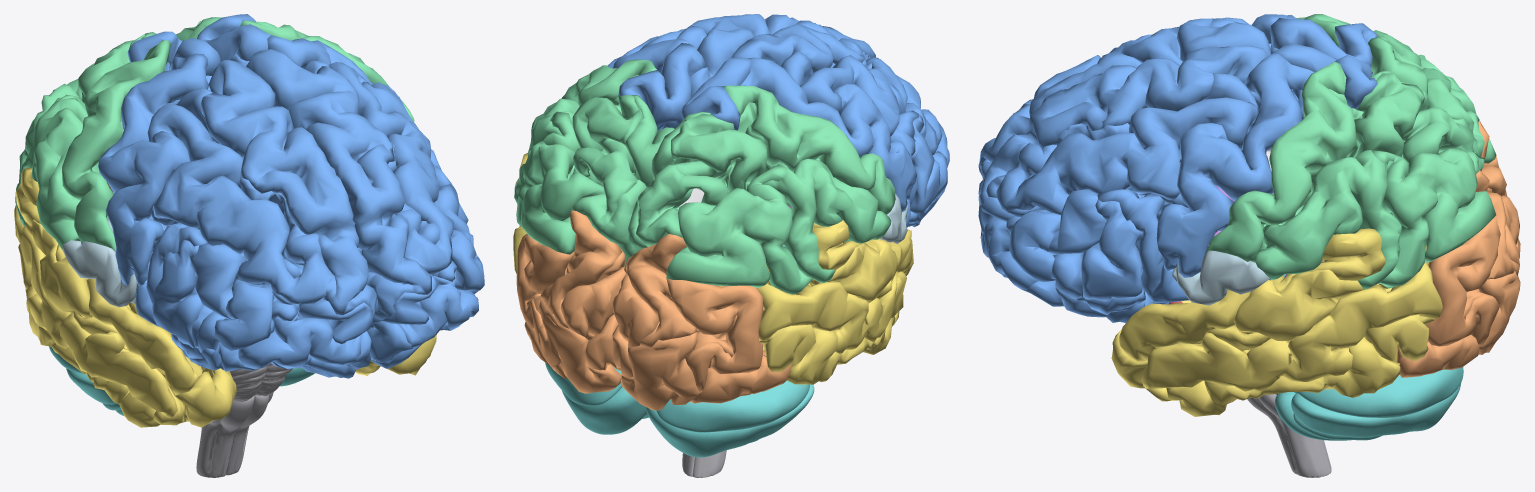
Rendered from brain_interactive.glb.
3 renders of one model, left to right at view 1: azimuth 30°, elevation 25°; view 2: azimuth 150°, elevation 25°; view 3: azimuth 270°, elevation 25°, orthographic. The views are drawn at different scales.
Parts seen in each view (by area): view 1: region_cerebrum_frontalLobe_R, region_cerebrum_frontalLobe_L, region_cerebrum_temporalLobe_R, region_cerebrum_parietalLobe_R, region_brainstem_medulla, region_cerebrum_insula_R, region_cerebrum_parietalLobe_L, region_brainstem_pons, region_cerebrum_temporalLobe_L, region_cerebellum_R; view 2: region_cerebrum_parietalLobe_R, region_cerebrum_frontalLobe_R, region_cerebrum_occipitalLobe_R, region_cerebrum_parietalLobe_L, region_cerebrum_temporalLobe_R, region_cerebrum_occipitalLobe_L, region_cerebrum_frontalLobe_L, region_cerebellum_R, region_cerebellum_L, region_brainstem_medulla, region_cerebrum_insula_R; view 3: region_cerebrum_frontalLobe_L, region_cerebrum_parietalLobe_L, region_cerebrum_temporalLobe_L, region_cerebrum_occipitalLobe_L, region_cerebrum_frontalLobe_R, region_cerebellum_L, region_cerebrum_parietalLobe_R, region_cerebrum_insula_L, region_brainstem_medulla, region_cerebrum_occipitalLobe_R.
Part boxes in pixels (left/top/right/bottom): region_cerebrum_frontalLobe_R: left=98, top=31, right=376, bottom=378; region_cerebrum_frontalLobe_L: left=197, top=14, right=484, bottom=368; region_cerebrum_temporalLobe_R: left=14, top=167, right=236, bottom=427; region_cerebrum_parietalLobe_R: left=15, top=32, right=170, bottom=251; region_brainstem_medulla: left=196, top=392, right=273, bottom=477; region_cerebrum_insula_R: left=62, top=218, right=136, bottom=307; region_cerebrum_parietalLobe_L: left=176, top=17, right=414, bottom=122; region_brainstem_pons: left=230, top=363, right=292, bottom=401; region_cerebrum_temporalLobe_L: left=355, top=334, right=436, bottom=375; region_cerebellum_R: left=49, top=346, right=124, bottom=416; region_cerebrum_parietalLobe_R: left=628, top=85, right=895, bottom=294; region_cerebrum_frontalLobe_R: left=682, top=20, right=949, bottom=227; region_cerebrum_occipitalLobe_R: left=612, top=234, right=792, bottom=410; region_cerebrum_parietalLobe_L: left=514, top=59, right=674, bottom=266; region_cerebrum_temporalLobe_R: left=717, top=220, right=913, bottom=384; region_cerebrum_occipitalLobe_L: left=516, top=210, right=626, bottom=393; region_cerebrum_frontalLobe_L: left=607, top=14, right=821, bottom=131; region_cerebellum_R: left=645, top=245, right=814, bottom=457; region_cerebellum_L: left=545, top=363, right=648, bottom=434; region_brainstem_medulla: left=682, top=450, right=726, bottom=477; region_cerebrum_insula_R: left=879, top=193, right=908, bottom=244; region_cerebrum_frontalLobe_L: left=978, top=44, right=1377, bottom=323; region_cerebrum_parietalLobe_L: left=1205, top=61, right=1496, bottom=289; region_cerebrum_temporalLobe_L: left=1111, top=228, right=1442, bottom=416; region_cerebrum_occipitalLobe_L: left=1397, top=170, right=1520, bottom=377; region_cerebrum_frontalLobe_R: left=978, top=14, right=1377, bottom=194; region_cerebellum_L: left=1275, top=367, right=1463, bottom=440; region_cerebrum_parietalLobe_R: left=1296, top=14, right=1496, bottom=163; region_cerebrum_insula_L: left=1172, top=250, right=1270, bottom=305; region_brainstem_medulla: left=1247, top=393, right=1331, bottom=477; region_cerebrum_occipitalLobe_R: left=1478, top=120, right=1520, bottom=258.
Size of the model in its own units: 0.6994 by 0.8165 by 0.9173.
